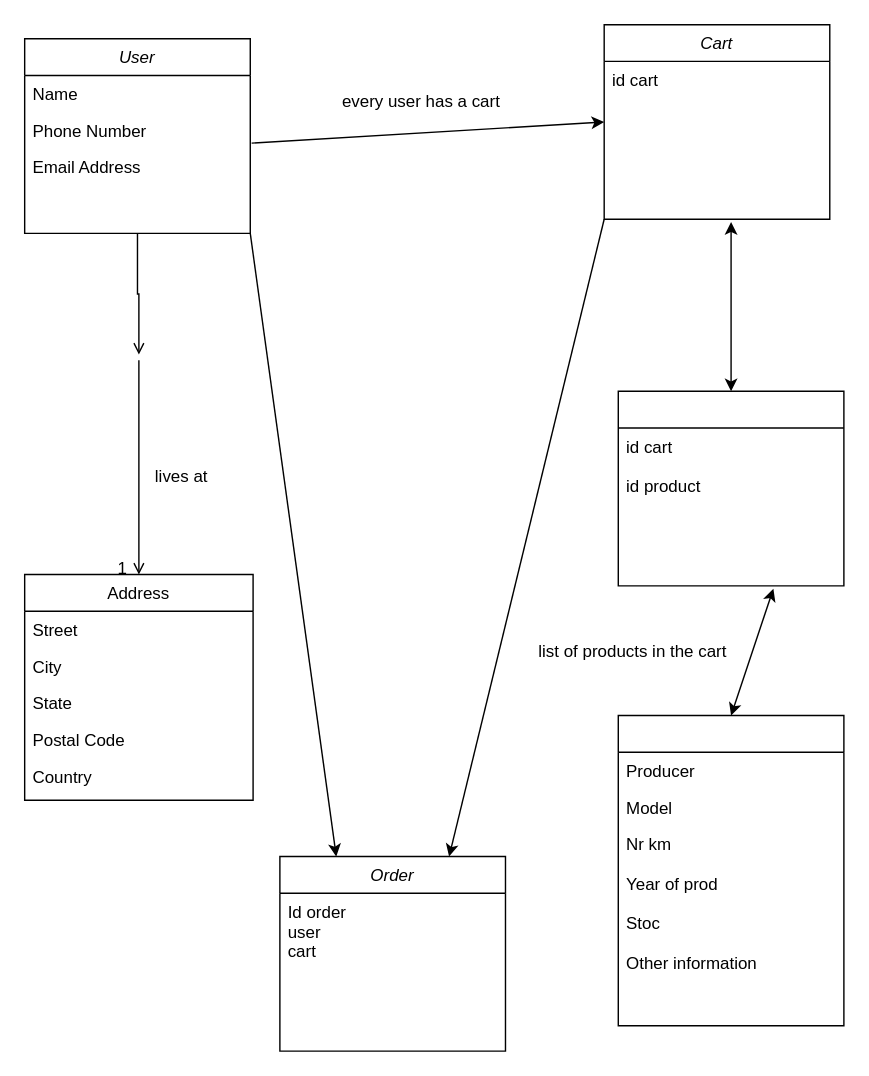
Image size: 869x1076. Some labels were removed from this diagram. Here are the shapes that lost their labels. From the top down, the box of each, then its label:
(617, 390, 844, 586): cart-product
(617, 714, 844, 1026): Motorcycle
